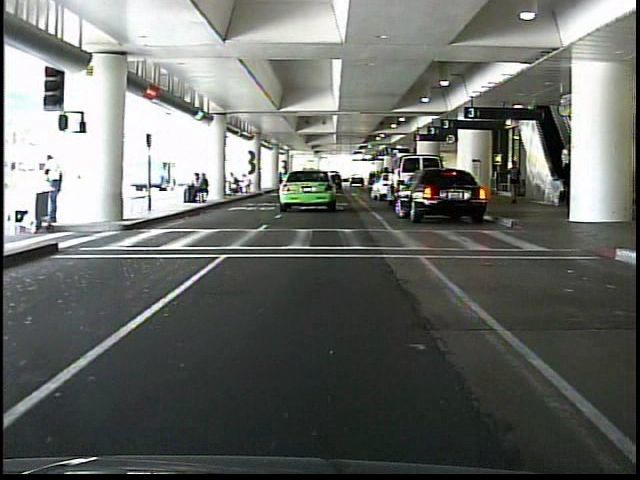person: (37, 152, 70, 229), (505, 158, 524, 208)
